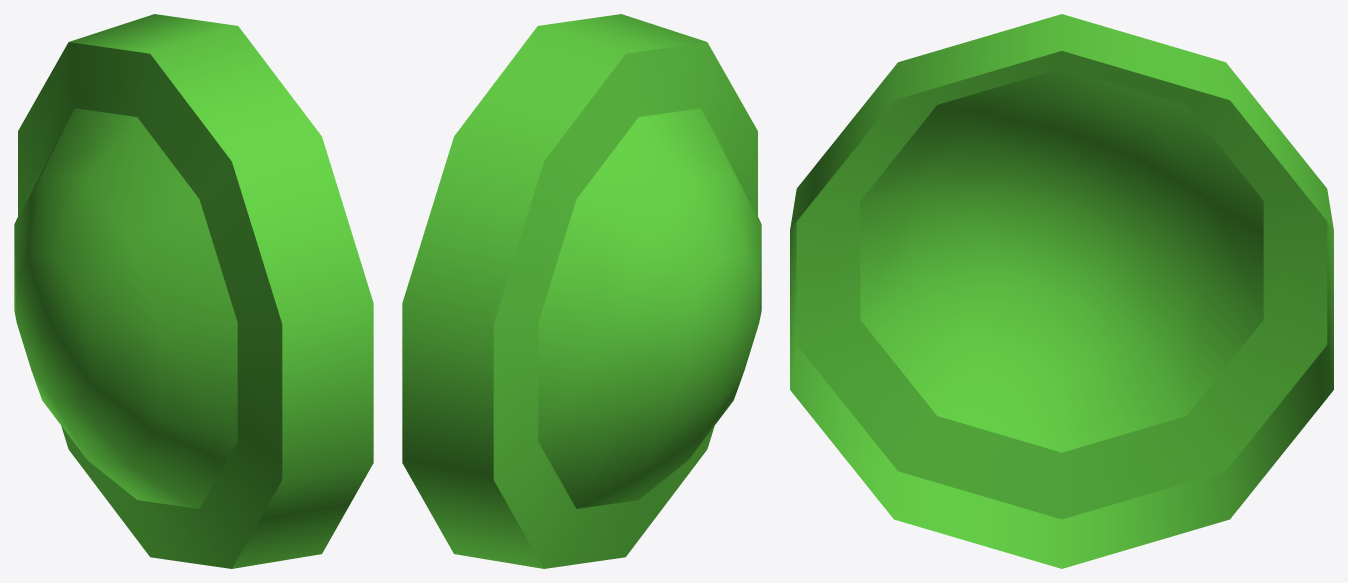
File: Door_Metal_Screw.fbx
3 renders of one model, left to right at view 1: azimuth 30°, elevation 25°; view 2: azimuth 150°, elevation 25°; view 3: azimuth 270°, elevation 25°, orthographic.
Visible parts, largest first — view 1: Door_Metal_Screw; view 2: Door_Metal_Screw; view 3: Door_Metal_Screw.
Boxes of the visible parts, x1,y1,x2,y2 form: Door_Metal_Screw: [14, 14, 373, 568]; Door_Metal_Screw: [402, 14, 761, 568]; Door_Metal_Screw: [790, 14, 1333, 568].
Size of the model in its own units: 2.43 by 6.17 by 5.87.
